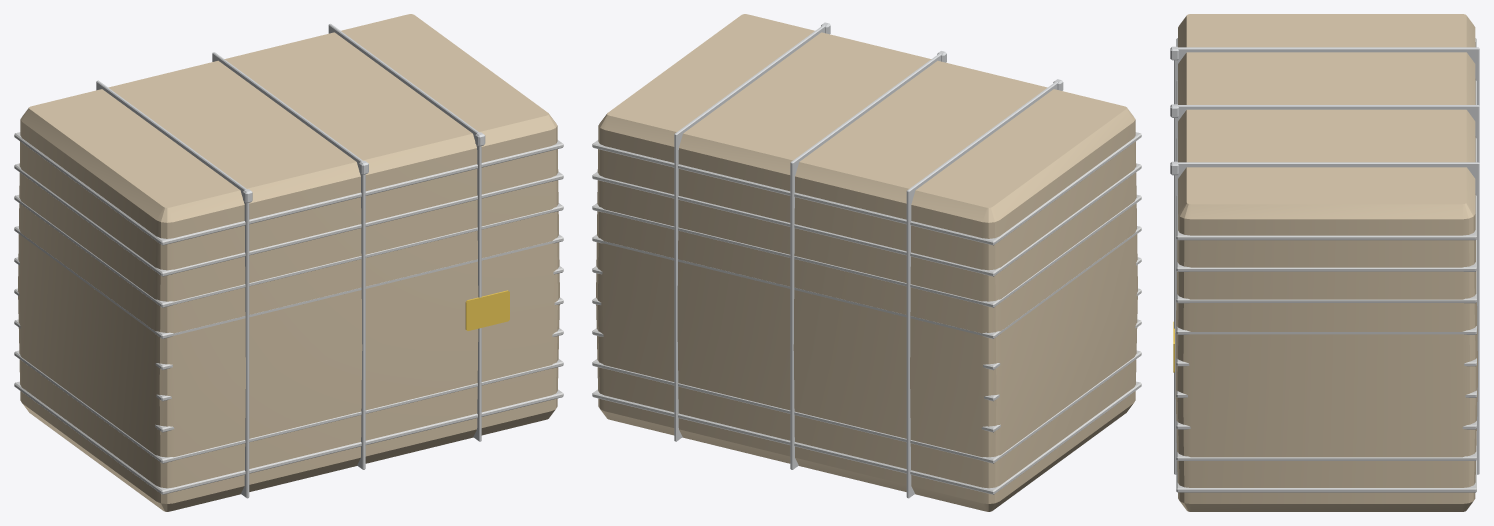
The model's file is laundrette-and-cleaning-cardboard-bale-c34f7daf__25610.glb.
The picture shows the model from 3 angles, left to right: view 1: azimuth 30°, elevation 25°; view 2: azimuth 150°, elevation 25°; view 3: azimuth 270°, elevation 25°; orthographic projection.
Parts seen in each view (by area): view 1: cardboard-bale; view 2: cardboard-bale; view 3: cardboard-bale.
Boxes of the visible parts, x1,y1,x2,y2 form: cardboard-bale: (14, 14, 563, 511); cardboard-bale: (592, 14, 1141, 511); cardboard-bale: (1170, 14, 1479, 511).
Bounding box in the file's own units: 1.11 × 0.81 × 0.728.
